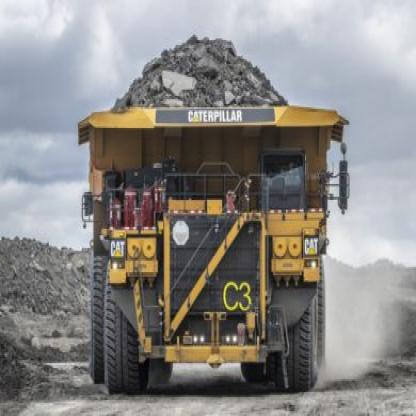dump_truck: (73, 34, 360, 400)
